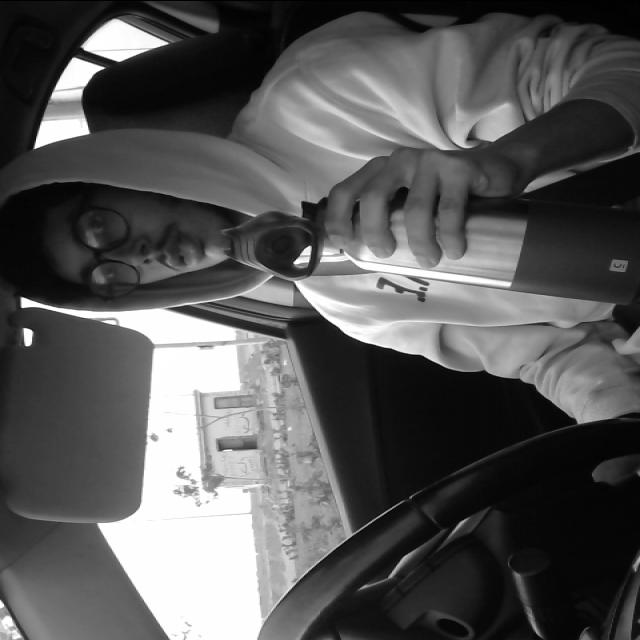drinking: (204, 194, 640, 304)
